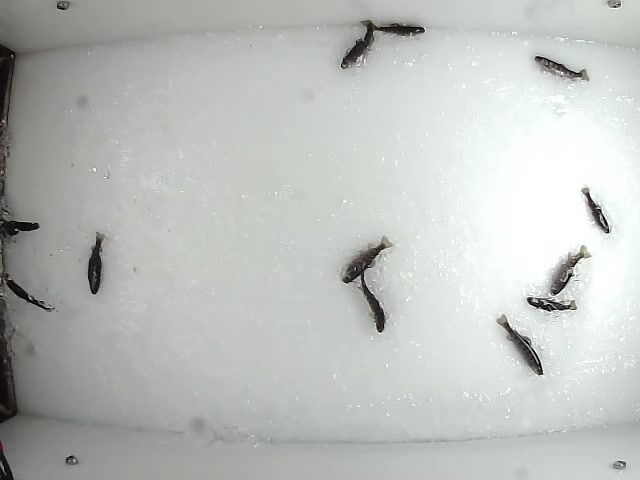fish: (493, 312, 546, 380), (338, 234, 397, 284), (545, 243, 592, 300), (2, 272, 57, 314), (358, 264, 387, 334), (338, 18, 376, 70), (532, 54, 592, 84), (580, 185, 612, 236), (85, 230, 105, 297), (362, 19, 426, 38), (524, 294, 579, 314)
